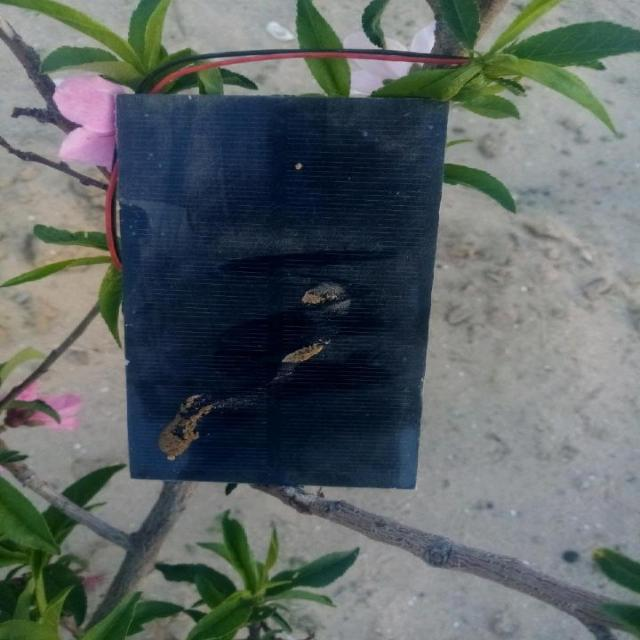faulty: (113, 91, 424, 486)
